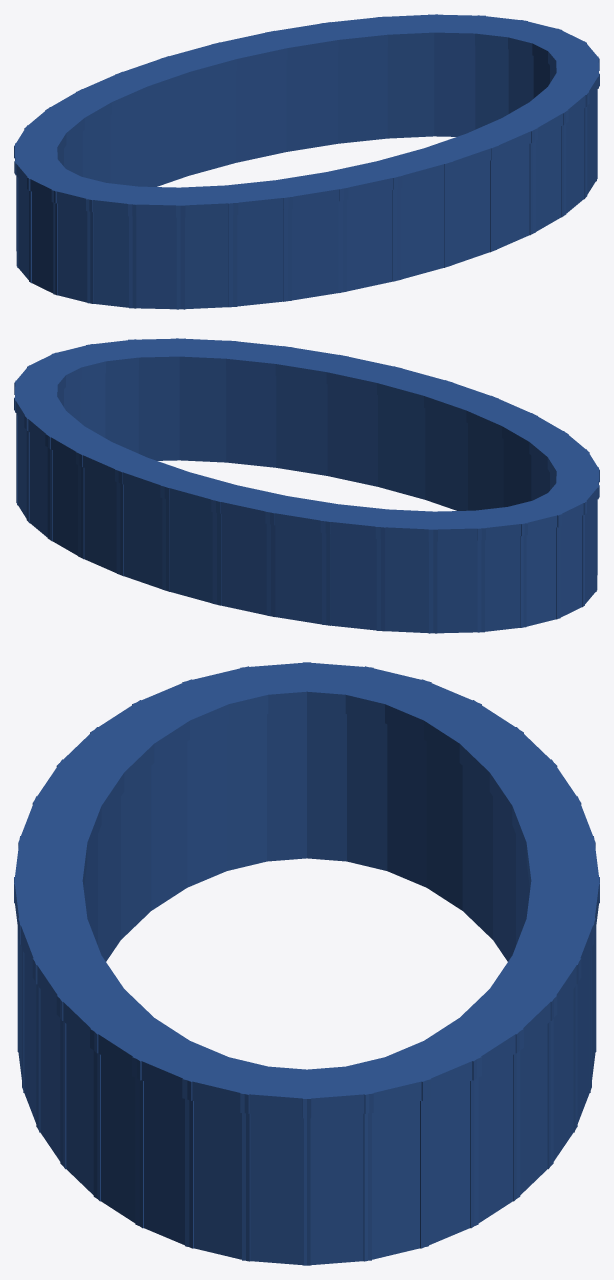
File: CMU3DAU14UNISCArmbandInsigniaExtraCloud.glb
3 views of the same model, one above another, from view 1: azimuth 30°, elevation 25°; view 2: azimuth 150°, elevation 25°; view 3: azimuth 270°, elevation 25° (orthographic). The views are drawn at different scales.
Visible parts, largest first — view 1: Connected cloth loop segment 22, Connected cloth loop segment 21, Connected cloth loop segment 23, Connected cloth loop segment 20, Connected cloth loop segment 6, Connected cloth loop segment 24, Connected cloth loop segment 5, Connected cloth loop segment 7, Connected cloth loop segment 19, Connected cloth loop segment 4, Connected cloth loop segment 8, Connected cloth loop segment 25 (+48 smaller); view 2: Connected cloth loop segment 9, Connected cloth loop segment 10, Connected cloth loop segment 8, Connected cloth loop segment 11, Connected cloth loop segment 25, Connected cloth loop segment 7, Connected cloth loop segment 26, Connected cloth loop segment 24, Connected cloth loop segment 12, Connected cloth loop segment 27, Connected cloth loop segment 23, Connected cloth loop segment 6 (+48 smaller); view 3: Connected cloth loop segment 0, Connected cloth loop segment 31, Connected cloth loop segment 1, Connected cloth loop segment 30, Connected cloth loop segment 2, Connected cloth loop segment 29, Connected cloth loop segment 3, Connected cloth loop segment 28, Connected cloth loop segment 14, Connected cloth loop segment 17, Connected cloth loop segment 15, Connected cloth loop segment 16 (+50 smaller).
Boxes of the visible parts, <box> form: Connected cloth loop segment 22: <box>283,200,347,301</box>; Connected cloth loop segment 21: <box>228,209,291,307</box>; Connected cloth loop segment 23: <box>338,188,401,292</box>; Connected cloth loop segment 20: <box>176,215,237,309</box>; Connected cloth loop segment 6: <box>286,52,337,151</box>; Connected cloth loop segment 24: <box>392,174,451,281</box>; Connected cloth loop segment 5: <box>337,46,387,143</box>; Connected cloth loop segment 7: <box>236,60,286,162</box>; Connected cloth loop segment 19: <box>129,216,184,309</box>; Connected cloth loop segment 4: <box>387,44,434,138</box>; Connected cloth loop segment 8: <box>188,71,235,175</box>; Connected cloth loop segment 25: <box>444,158,497,267</box>; Connected cloth loop segment 9: <box>266,524,330,625</box>; Connected cloth loop segment 10: <box>322,533,385,631</box>; Connected cloth loop segment 8: <box>212,512,275,616</box>; Connected cloth loop segment 11: <box>376,539,437,633</box>; Connected cloth loop segment 25: <box>276,376,327,475</box>; Connected cloth loop segment 7: <box>162,498,221,605</box>; Connected cloth loop segment 26: <box>226,370,276,467</box>; Connected cloth loop segment 24: <box>327,384,377,486</box>; Connected cloth loop segment 12: <box>429,540,484,633</box>; Connected cloth loop segment 27: <box>179,368,226,462</box>; Connected cloth loop segment 23: <box>378,395,425,499</box>; Connected cloth loop segment 6: <box>116,482,169,591</box>; Connected cloth loop segment 0: <box>303,1113,371,1265</box>; Connected cloth loop segment 31: <box>242,1113,310,1265</box>; Connected cloth loop segment 1: <box>363,1099,428,1261</box>; Connected cloth loop segment 30: <box>185,1099,250,1261</box>; Connected cloth loop segment 2: <box>420,1077,478,1248</box>; Connected cloth loop segment 29: <box>135,1077,193,1248</box>; Connected cloth loop segment 3: <box>470,1050,520,1228</box>; Connected cloth loop segment 28: <box>93,1050,143,1228</box>; Connected cloth loop segment 14: <box>347,714,387,870</box>; Connected cloth loop segment 17: <box>226,714,266,870</box>; Connected cloth loop segment 15: <box>307,711,346,861</box>; Connected cloth loop segment 16: <box>267,711,306,861</box>.
Bounding box in the file's own units: 0.4401 × 0.079 × 0.2494.
